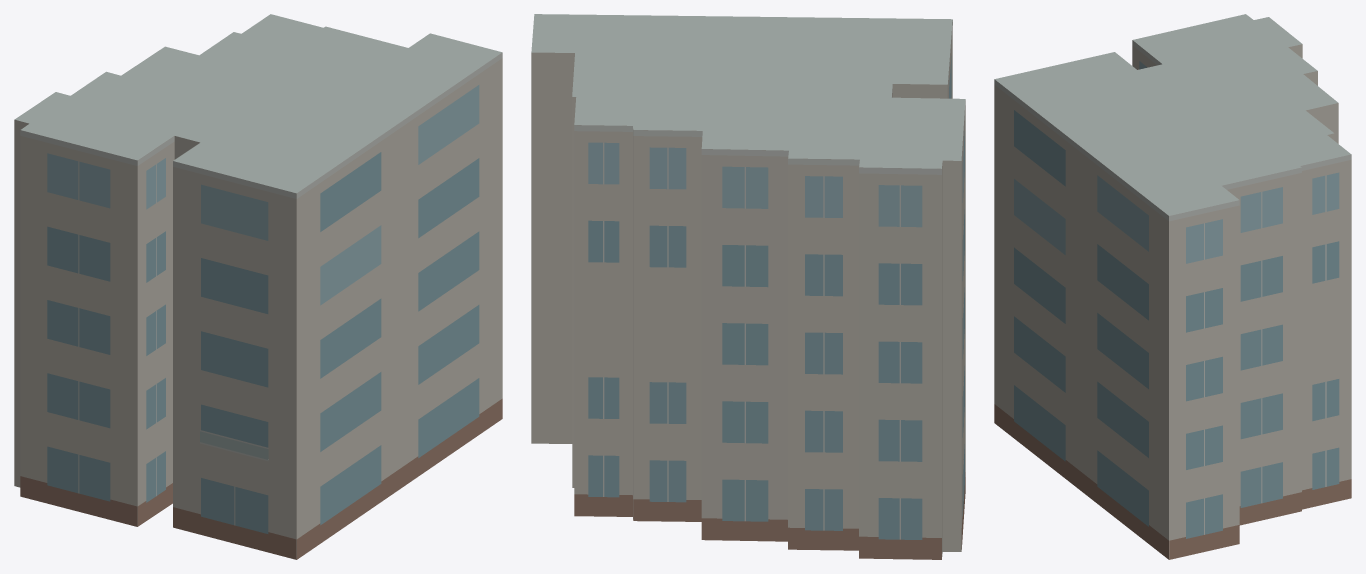
Rendered from survey-upis-32467135.glb.
The picture shows the model from 3 angles, left to right: view 1: azimuth 30°, elevation 25°; view 2: azimuth 150°, elevation 25°; view 3: azimuth 270°, elevation 25°; orthographic projection. The views are drawn at different scales.
Visible parts, largest first — view 1: survey-upis-32467135.tmp; view 2: survey-upis-32467135.tmp; view 3: survey-upis-32467135.tmp.
Part boxes in pixels (x1=…): survey-upis-32467135.tmp: x1=14, y1=14, x2=502, y2=559; survey-upis-32467135.tmp: x1=531, y1=14, x2=965, y2=559; survey-upis-32467135.tmp: x1=994, y1=14, x2=1351, y2=559.
Size of the model in its own units: 19.74 by 15.66 by 14.75.
